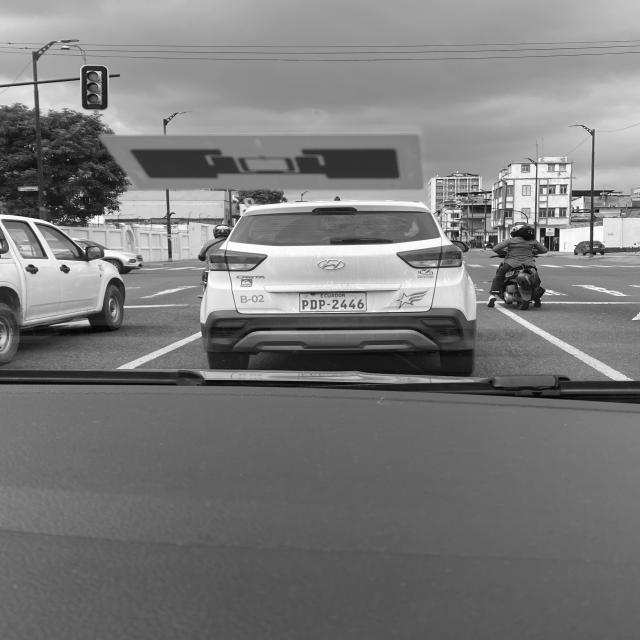Placa: (300, 293, 366, 312)
